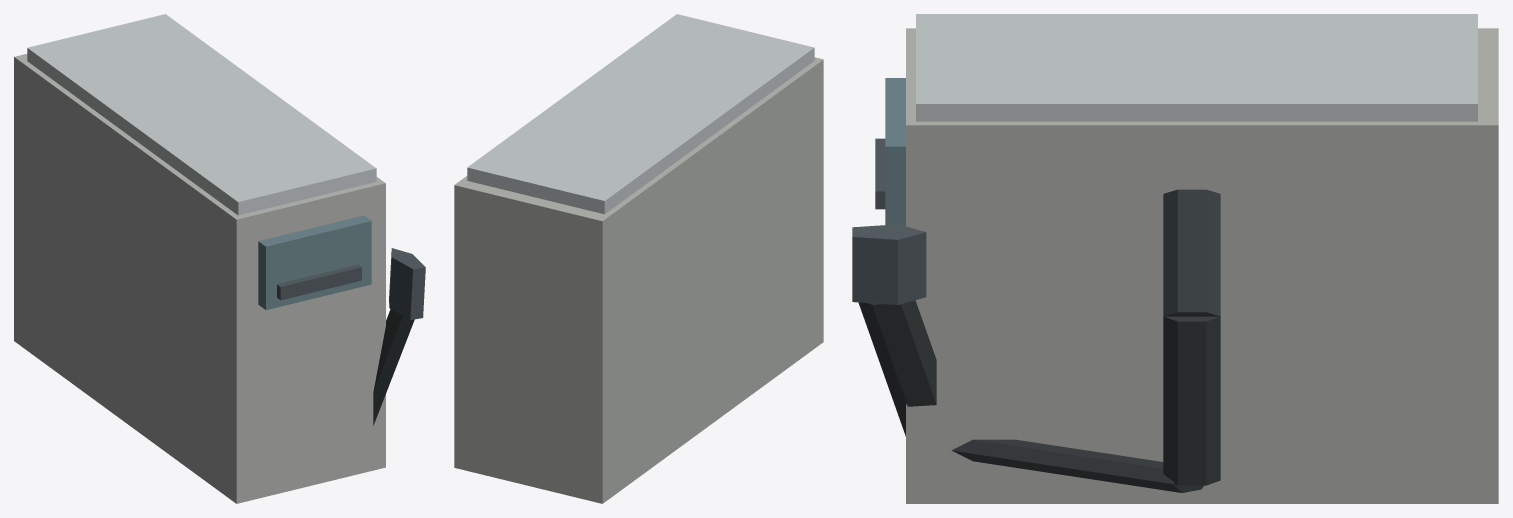
The model's file is fuel_pump.glb.
3 renders of one model, left to right at view 1: azimuth 30°, elevation 25°; view 2: azimuth 150°, elevation 25°; view 3: azimuth 270°, elevation 25°, orthographic. The views are drawn at different scales.
Visible parts, largest first — view 1: fuel_pump; view 2: fuel_pump; view 3: fuel_pump.
Part boxes in pixels (x1,y1,x2,y2): fuel_pump: (14,14,425,503); fuel_pump: (454,14,823,503); fuel_pump: (852,14,1498,503).
Size of the model in its own units: 0.96 by 1.3 by 1.92.
